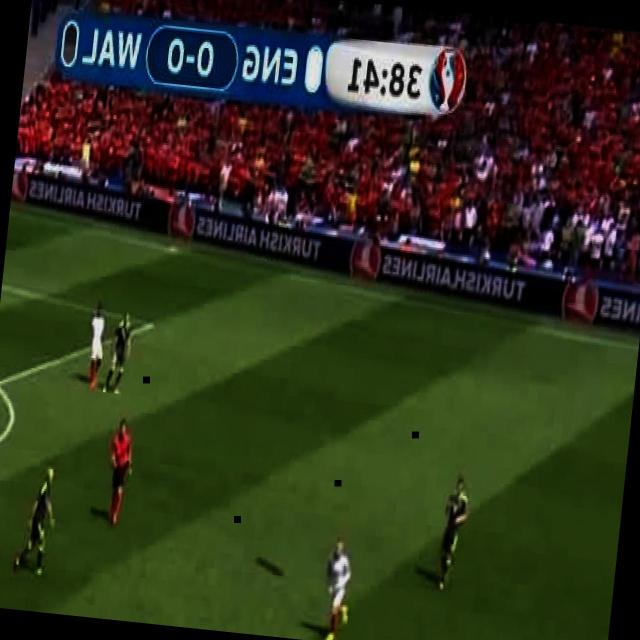player-white: (11, 463, 59, 581), (434, 475, 472, 593), (319, 537, 358, 640), (101, 420, 137, 530), (103, 311, 134, 395), (84, 303, 111, 392)
